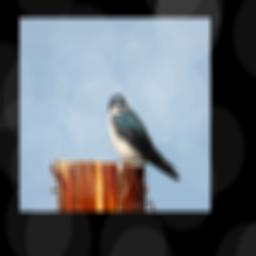Swallow: (107, 94, 181, 183)
